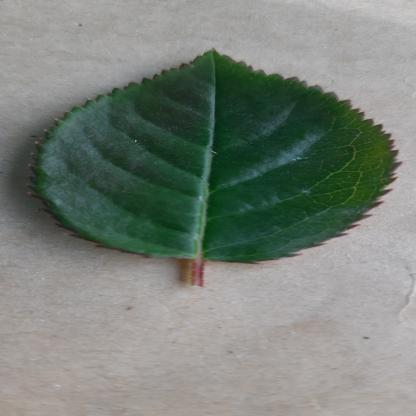normal: (26, 45, 408, 264)
